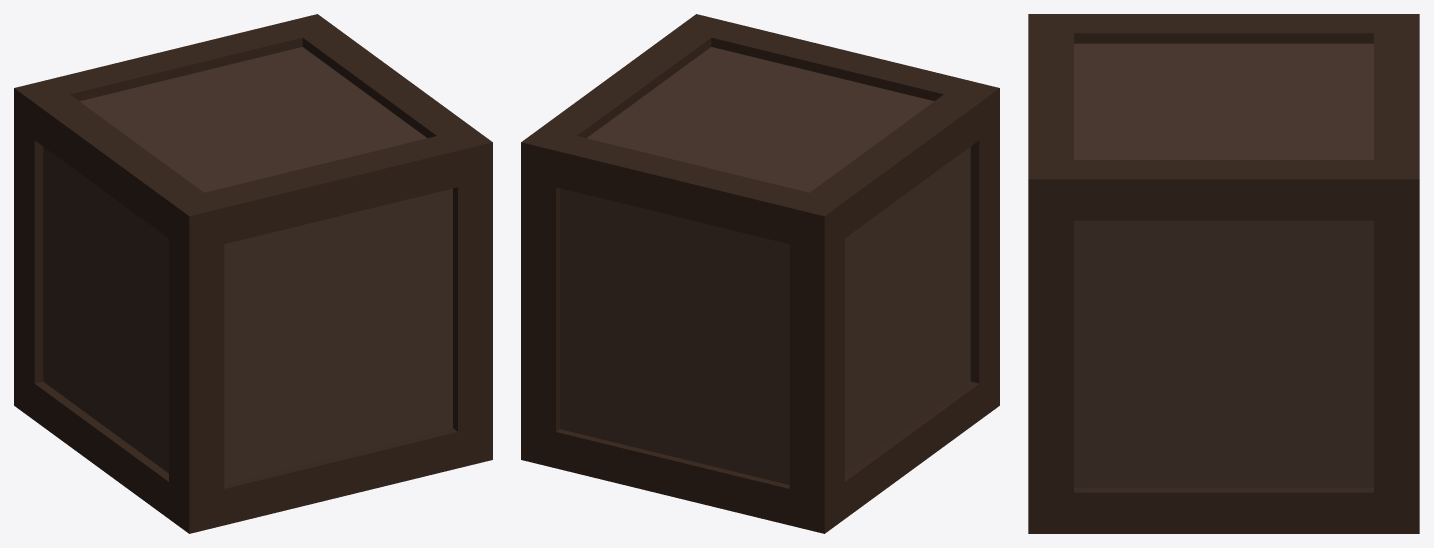
The model's file is envi_crate.fbx.
3 views of the same model, side by side, from view 1: azimuth 30°, elevation 25°; view 2: azimuth 150°, elevation 25°; view 3: azimuth 270°, elevation 25° (orthographic). The views are drawn at different scales.
Parts seen in each view (by area): view 1: pCube15; view 2: pCube15; view 3: pCube15.
Part boxes in pixels (x1,y1,x2,y2): pCube15: (14, 14, 492, 533); pCube15: (521, 14, 999, 533); pCube15: (1028, 14, 1419, 533).
Size of the model in its own units: 1.69 by 1.69 by 1.69.
